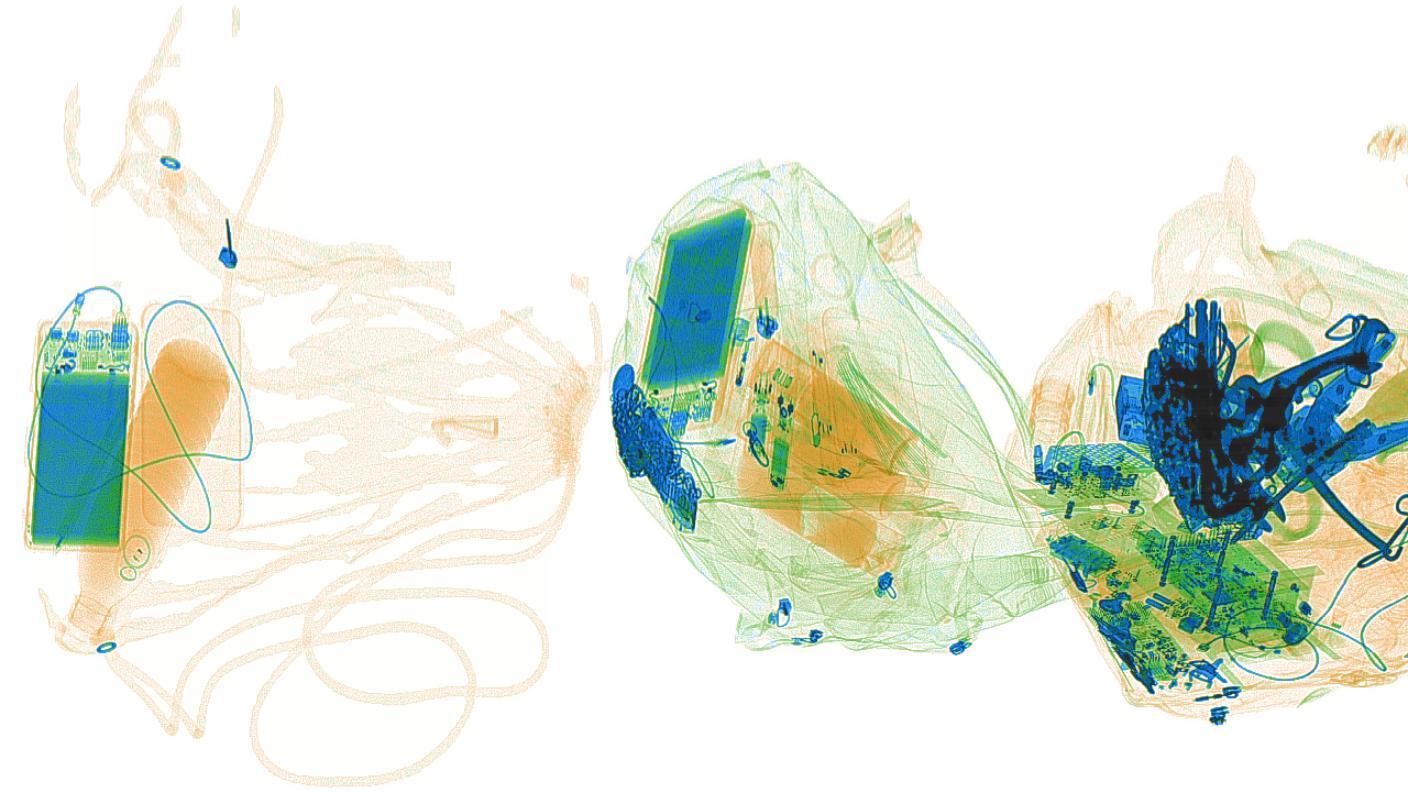lighter: (707, 312, 758, 434)
plasticBottleWithaNozzle: (733, 331, 919, 478)
